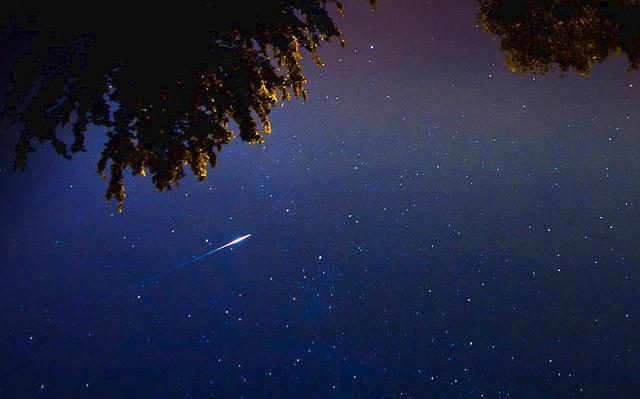meteorite: (120, 227, 269, 302)
